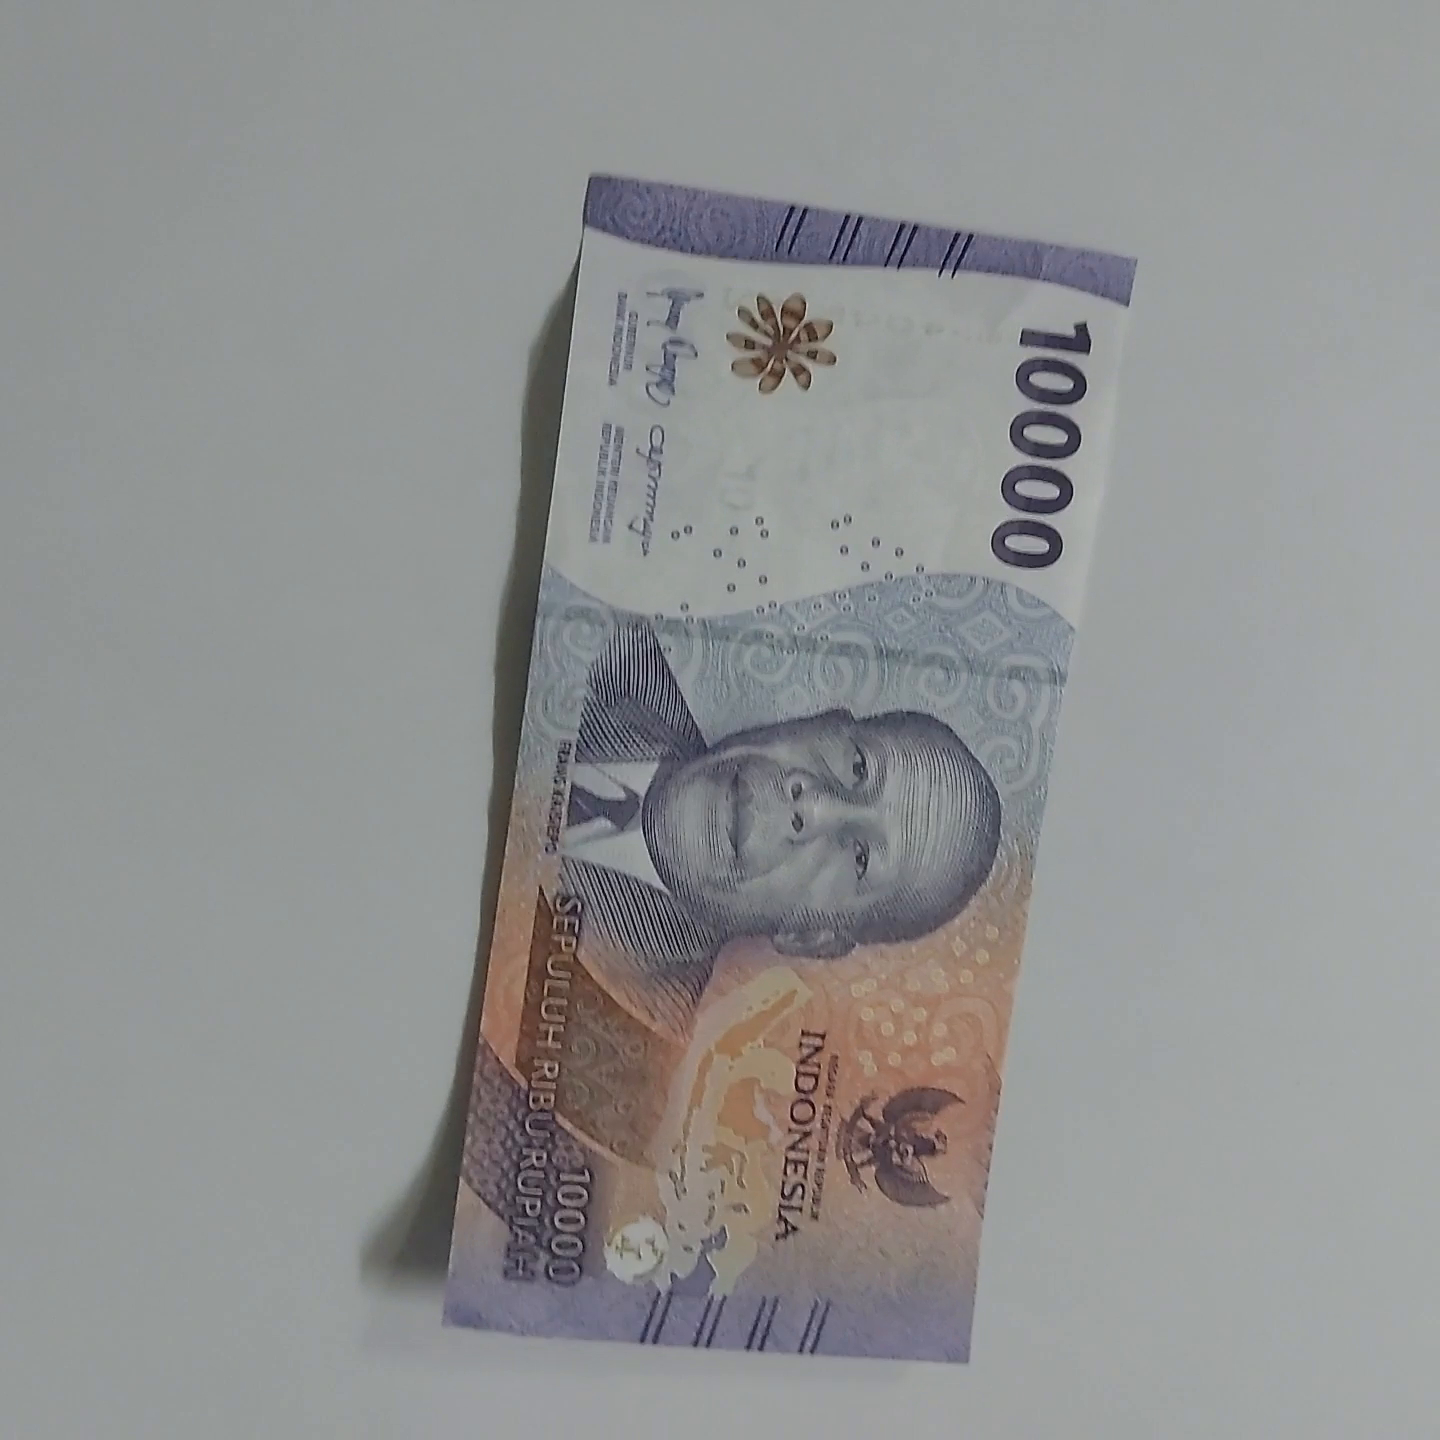10k: (592, 141, 1137, 1366)
